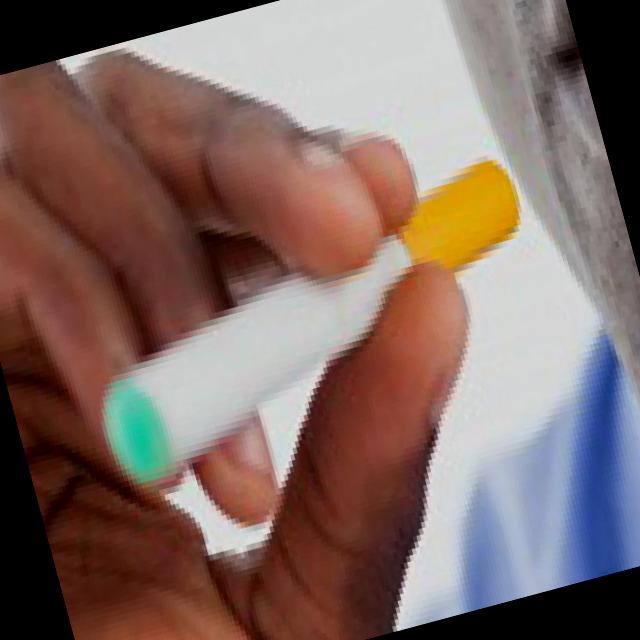smoke: (52, 138, 569, 496)
